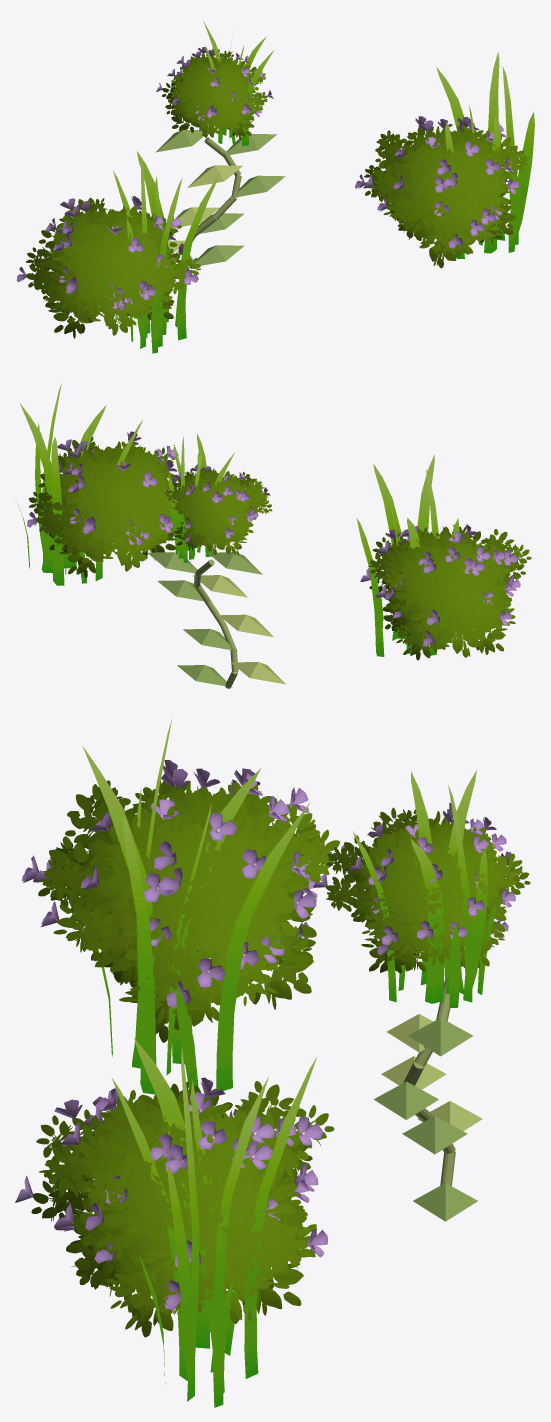
Rendered from Water_Trough_Greenery.glb.
3 renders of one model, top to bottom at view 1: azimuth 30°, elevation 25°; view 2: azimuth 150°, elevation 25°; view 3: azimuth 270°, elevation 25°, orthographic. The views are drawn at different scales.
Visible parts, largest first — view 1: Patch_000, Patch_001, Patch_002; view 2: Patch_000, Patch_001, Patch_002; view 3: Patch_001, Patch_000, Patch_002.
Boxes of the visible parts, x1=… form: Patch_000: x1=16, y1=151, x2=220, y2=353; Patch_001: x1=355, y1=52, x2=534, y2=268; Patch_002: x1=155, y1=20, x2=285, y2=268; Patch_000: x1=356, y1=454, x2=531, y2=660; Patch_001: x1=16, y1=383, x2=179, y2=585; Patch_002: x1=147, y1=433, x2=285, y2=688; Patch_001: x1=15, y1=1038, x2=334, y2=1407; Patch_000: x1=22, y1=718, x2=339, y2=1094; Patch_002: x1=313, y1=770, x2=530, y2=1221.
Bounding box in the file's own units: 2.15 × 0.9942 × 1.05.
Materials: 6 (3 with a texture image).
